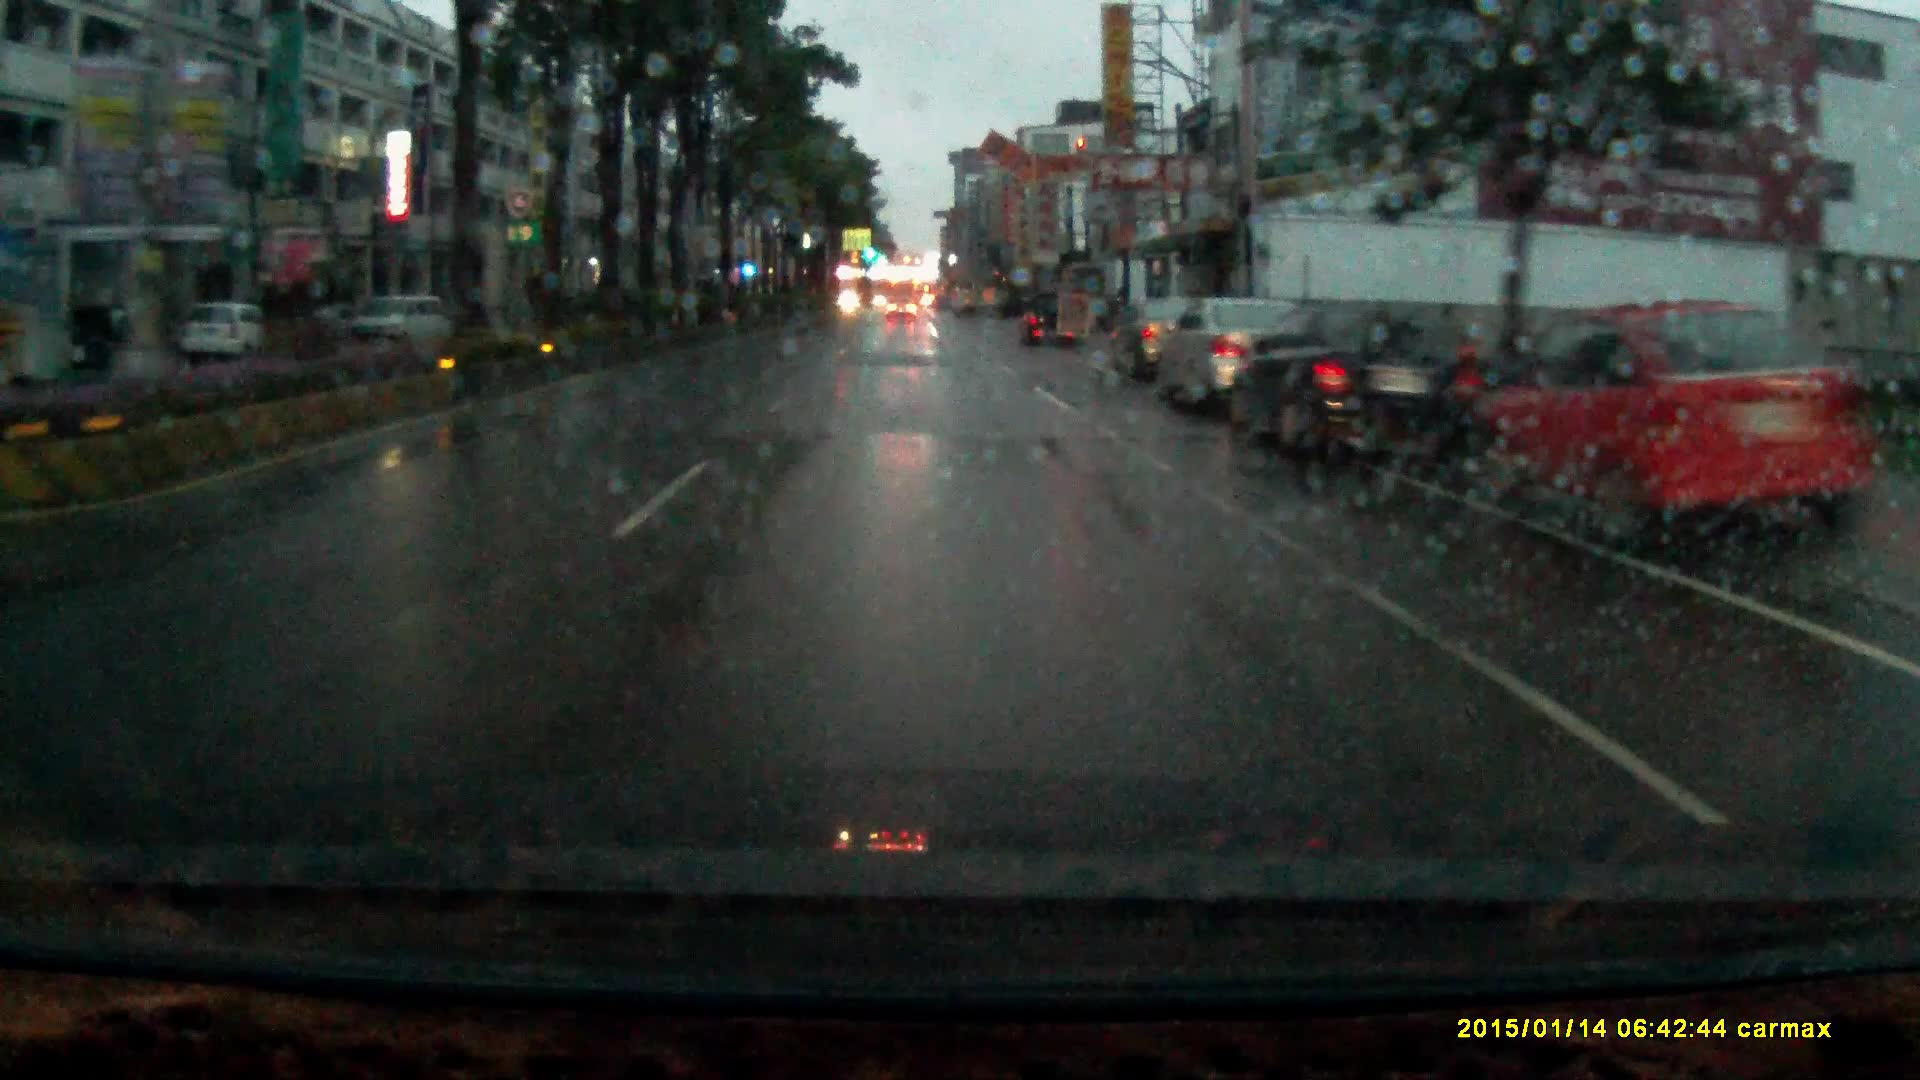vehicle: (1226, 301, 1472, 464), (1153, 295, 1317, 406), (1106, 298, 1192, 377), (339, 293, 454, 345), (189, 302, 276, 356), (1014, 286, 1083, 352), (886, 294, 916, 324)
